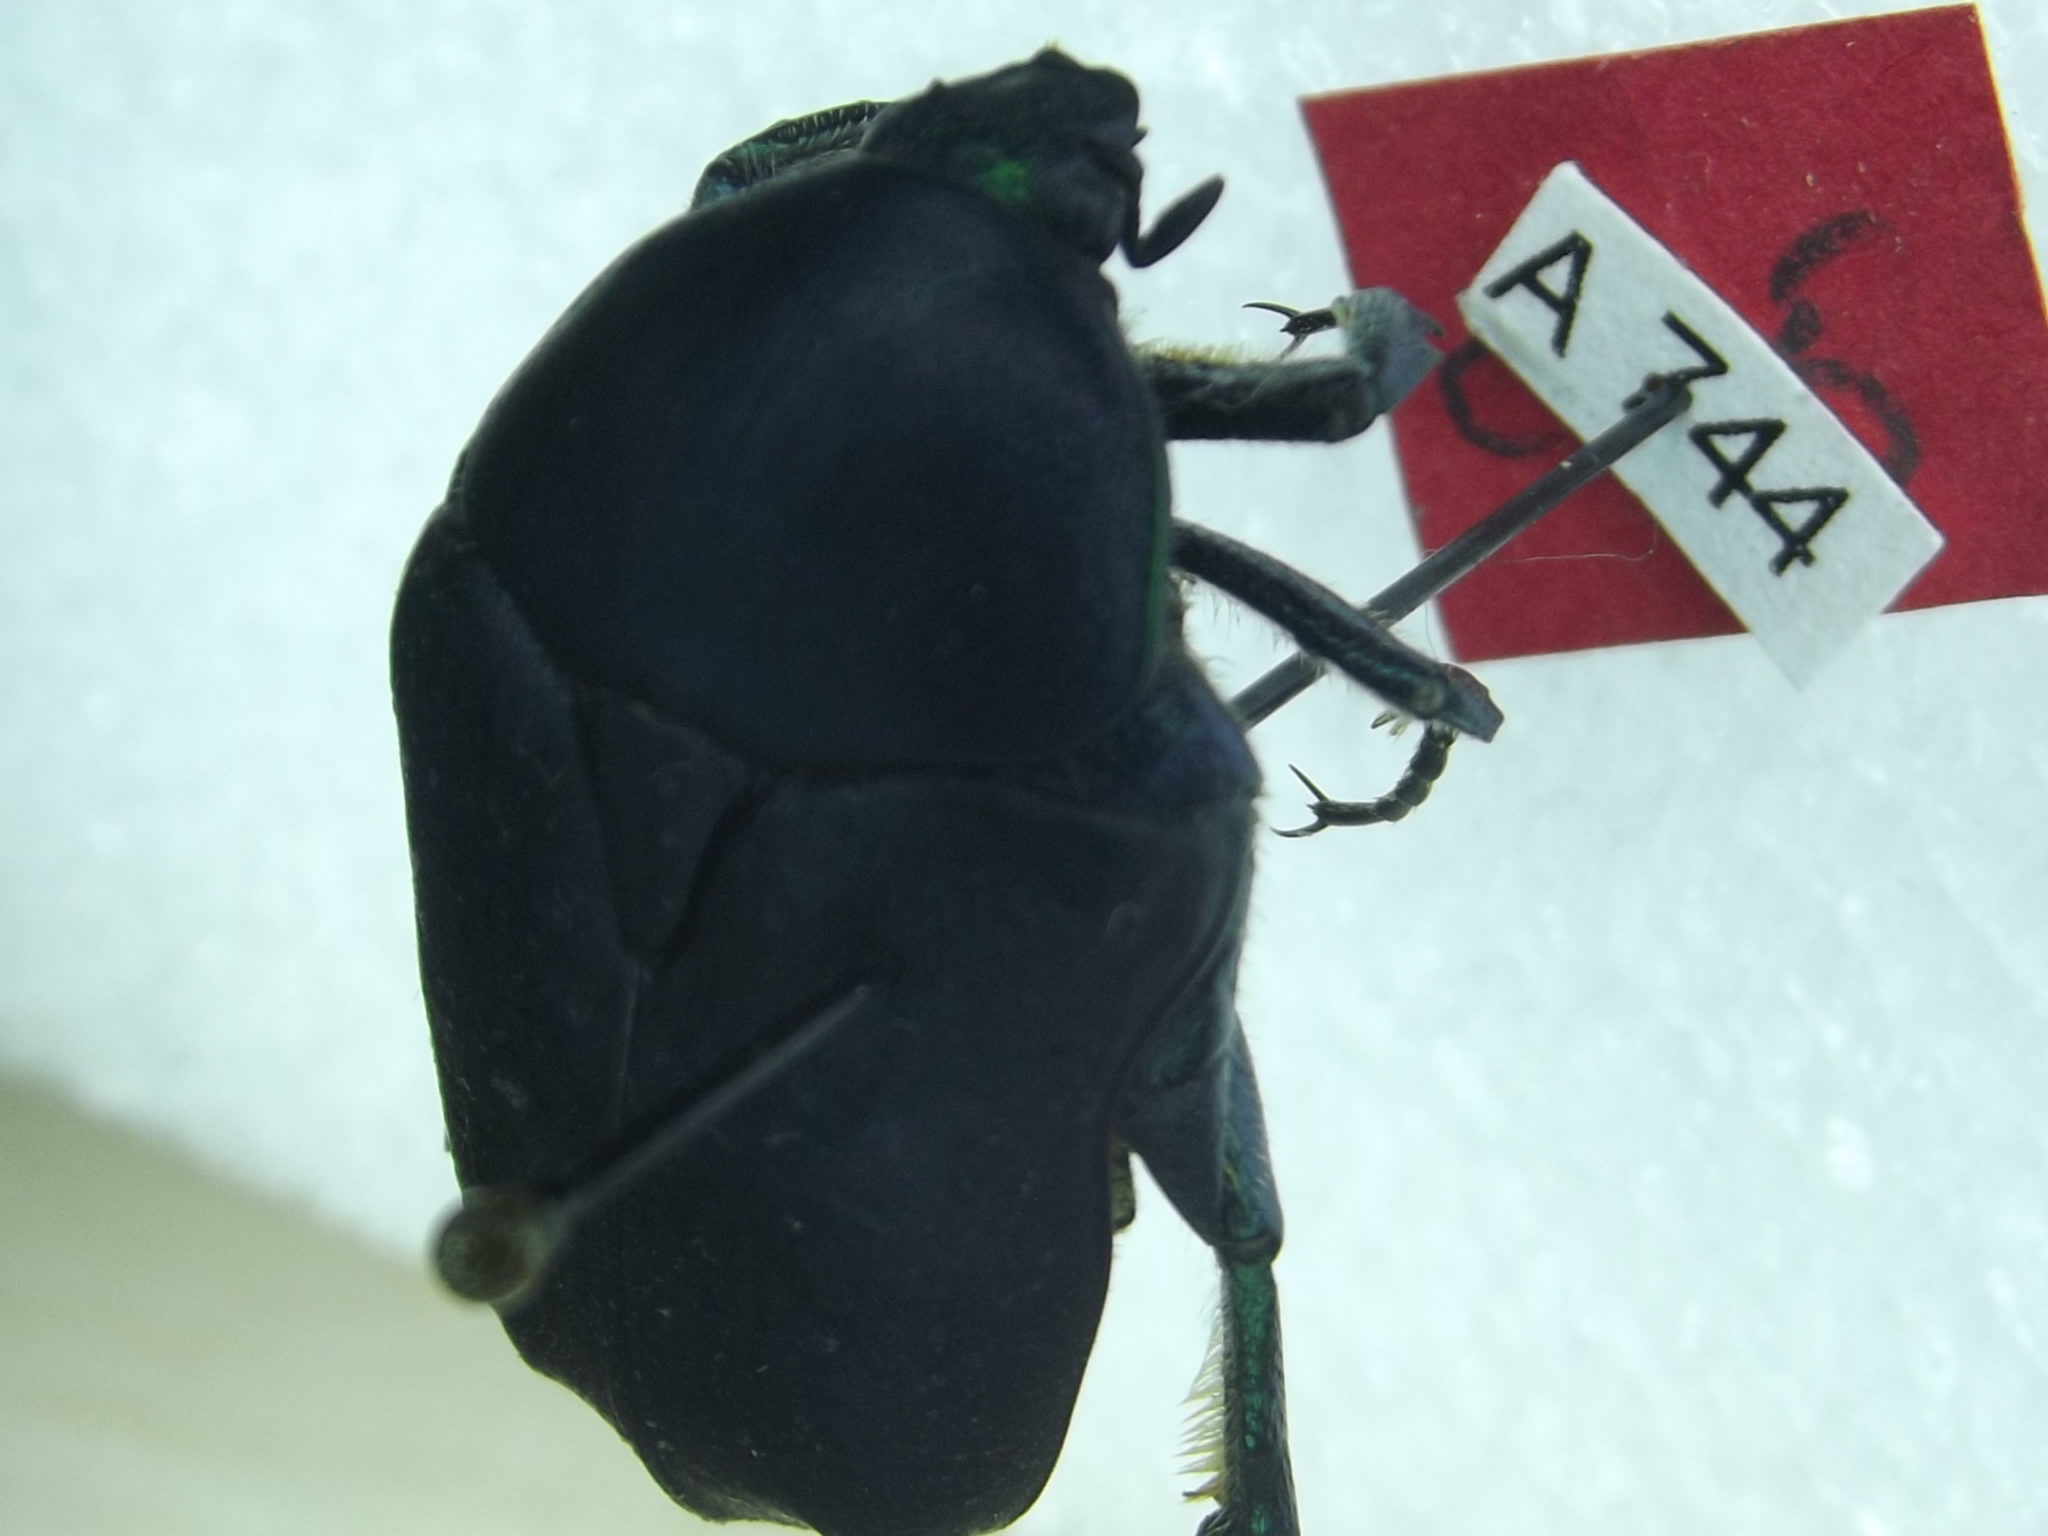Protaetia_afflicta: (368, 32, 1571, 1536)
